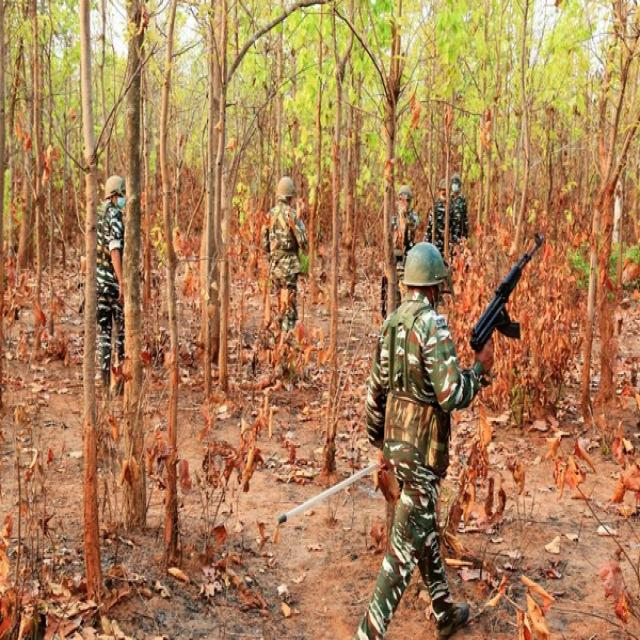Forest: (0, 1, 640, 640)
Militant: (356, 215, 502, 640), (253, 152, 334, 382), (87, 150, 161, 396), (414, 148, 480, 286), (382, 167, 422, 304)
